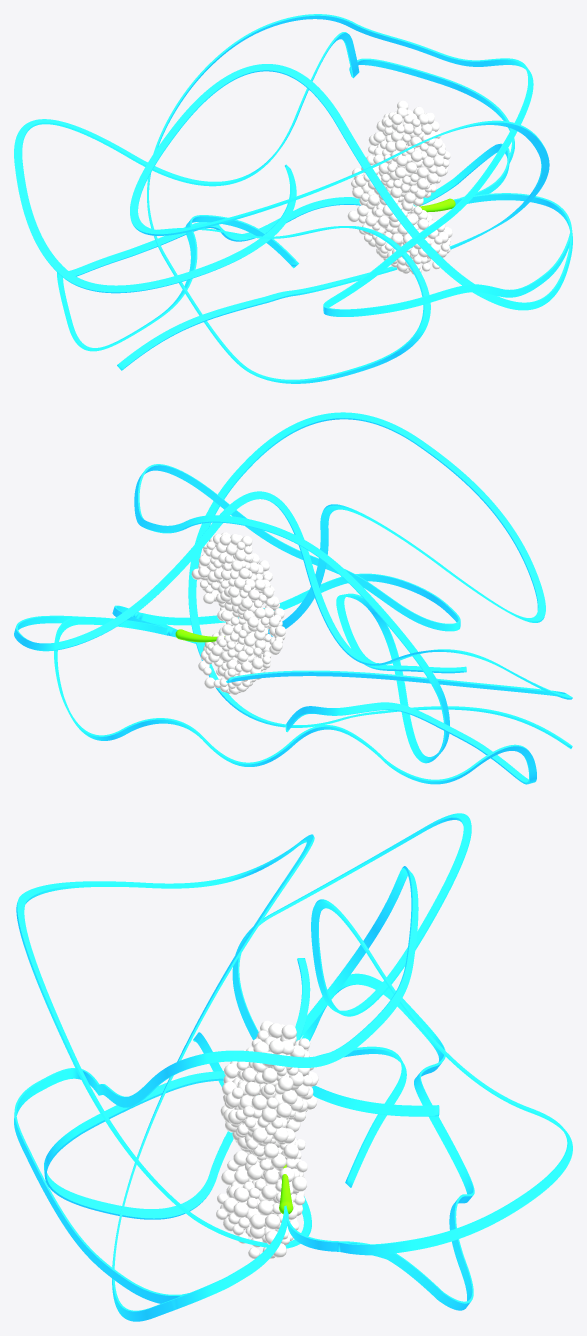
Rendered from TestB.gltf.
3 views of the same model, one above another, from view 1: azimuth 30°, elevation 25°; view 2: azimuth 150°, elevation 25°; view 3: azimuth 270°, elevation 25° (orthographic). The views are drawn at different scales.
Visible parts, largest first — view 1: Carrier_Geo, Drug_Geo; view 2: Carrier_Geo, Drug_Geo; view 3: Carrier_Geo, Drug_Geo.
Boxes of the visible parts, box(x1,y1,x2,y2) form: Carrier_Geo: box(14, 14, 572, 383); Drug_Geo: box(347, 100, 452, 274); Carrier_Geo: box(14, 412, 572, 784); Drug_Geo: box(191, 532, 285, 694); Carrier_Geo: box(14, 813, 572, 1321); Drug_Geo: box(216, 1020, 318, 1258).
Size of the model in its own units: 197 by 106 by 140.
